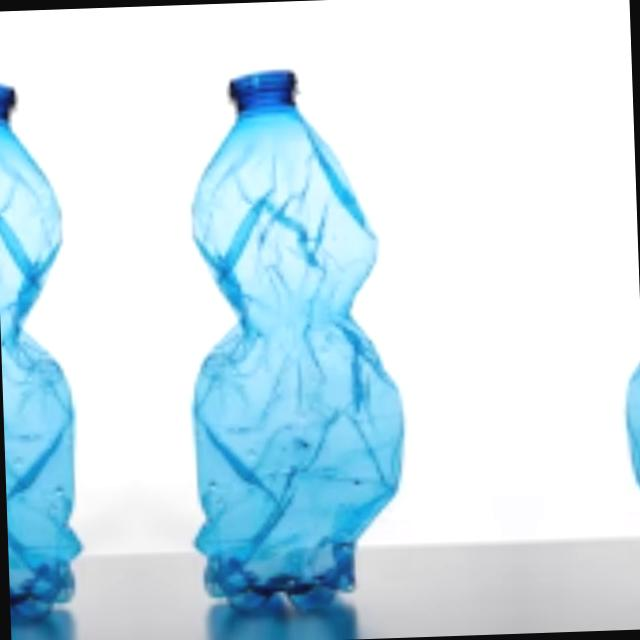Plastic: (148, 48, 425, 620), (0, 59, 110, 626), (595, 40, 640, 605)
